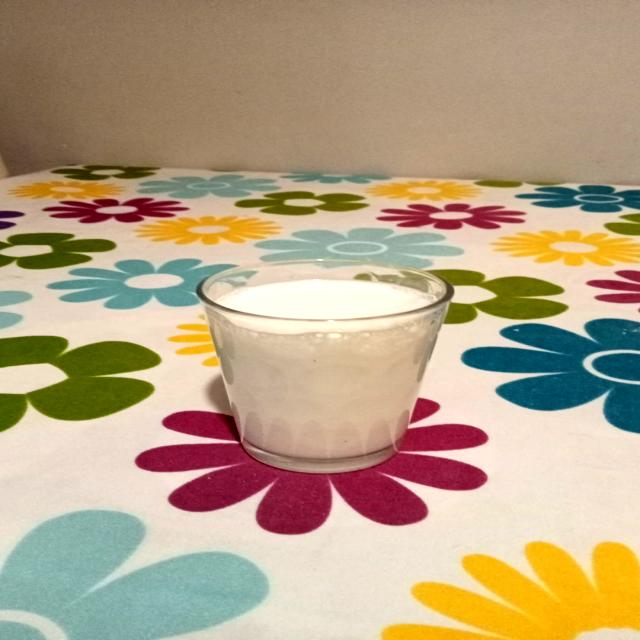milk: (158, 257, 474, 480)
